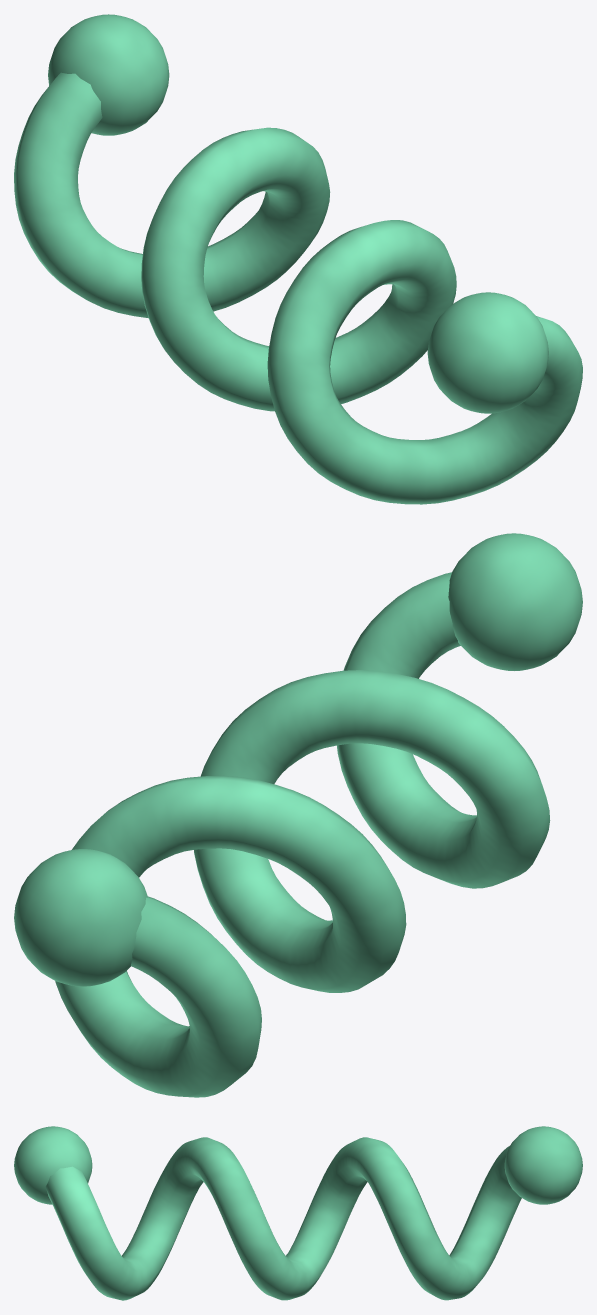
File: gluon.glb
The picture shows the model from 3 angles, top to bottom: view 1: azimuth 30°, elevation 25°; view 2: azimuth 150°, elevation 25°; view 3: azimuth 270°, elevation 25°; orthographic projection. The views are drawn at different scales.
Parts seen in each view (by area): view 1: gluon_textured_mesh; view 2: gluon_textured_mesh; view 3: gluon_textured_mesh.
Boxes of the visible parts, x1=… form: gluon_textured_mesh: x1=14, y1=14, x2=582, y2=504; gluon_textured_mesh: x1=14, y1=533, x2=582, y2=1097; gluon_textured_mesh: x1=14, y1=1126, x2=582, y2=1300.
Size of the model in its own units: 0.7302 by 0.7254 by 2.32.
1 material, 1 textured.
